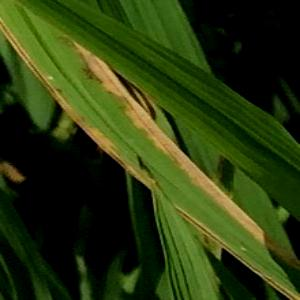2 BacterialBlight: (77, 58, 151, 170)
